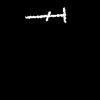double_crochet: (26, 8, 65, 22)
